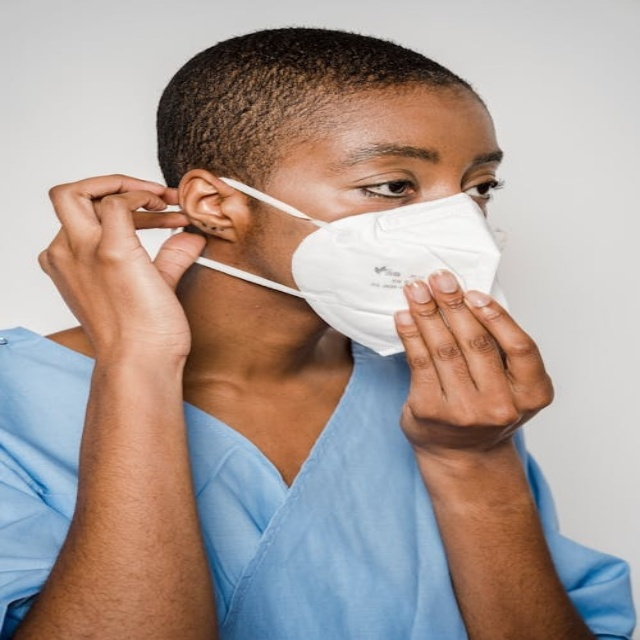Mascara: (178, 174, 510, 356)
Sin_gafas: (357, 178, 416, 198), (464, 178, 501, 199)
Sin_guantes: (387, 267, 550, 455)
